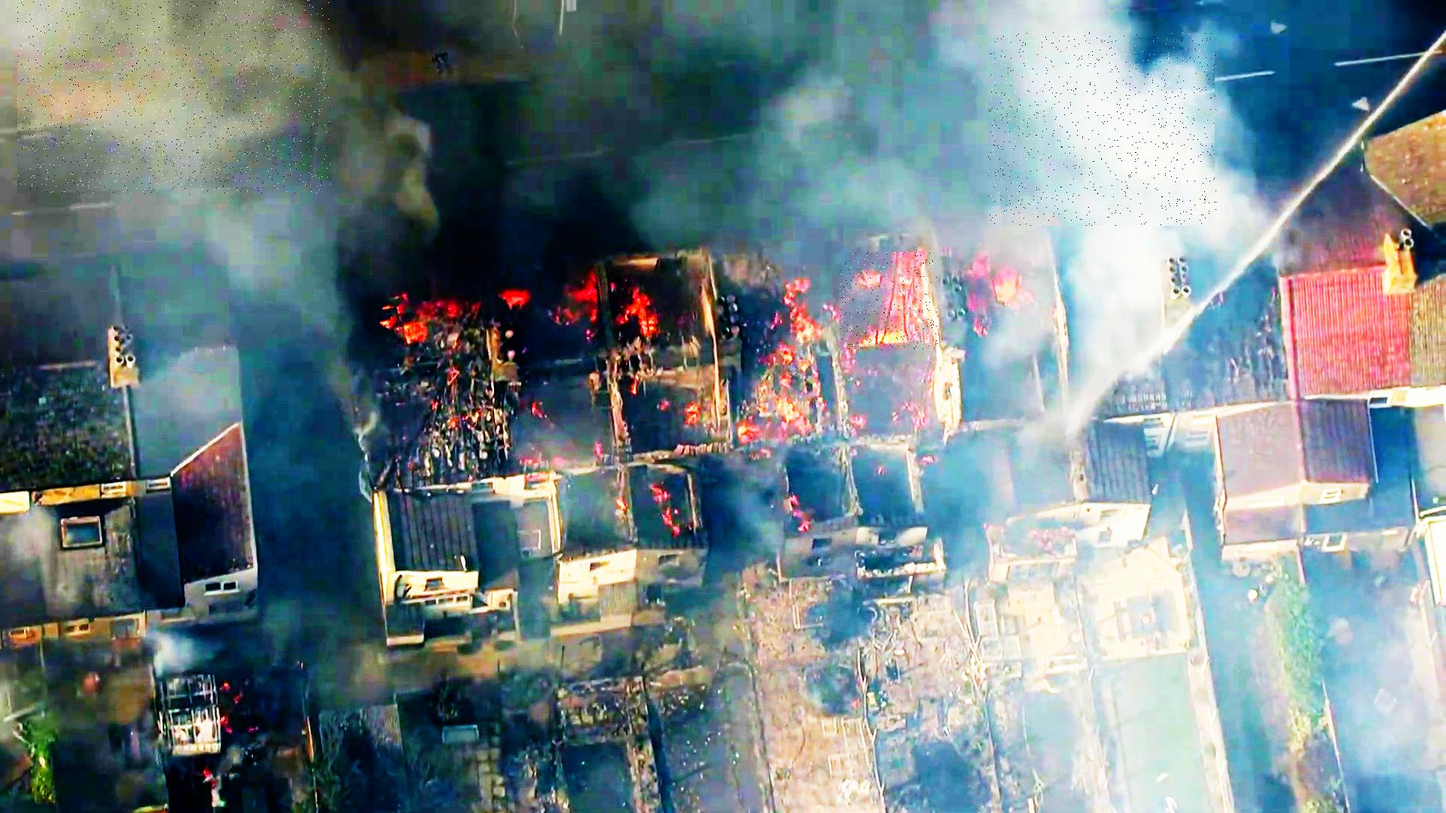fire: (840, 252, 938, 350)
smoke: (18, 0, 332, 194), (989, 32, 1217, 226)
